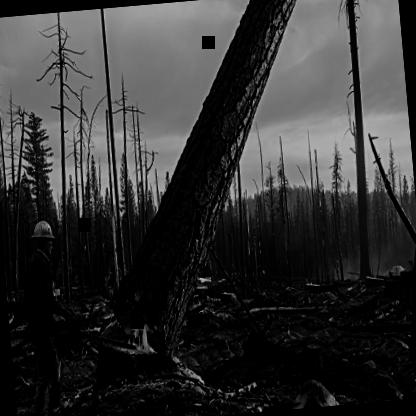helmet: (27, 214, 58, 261)
